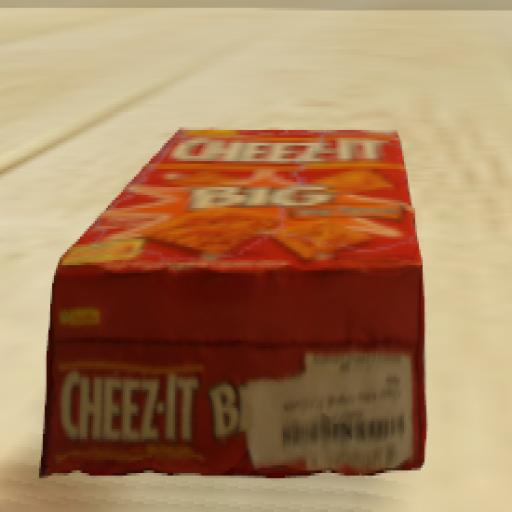BOX_R: (25, 56, 475, 492)
